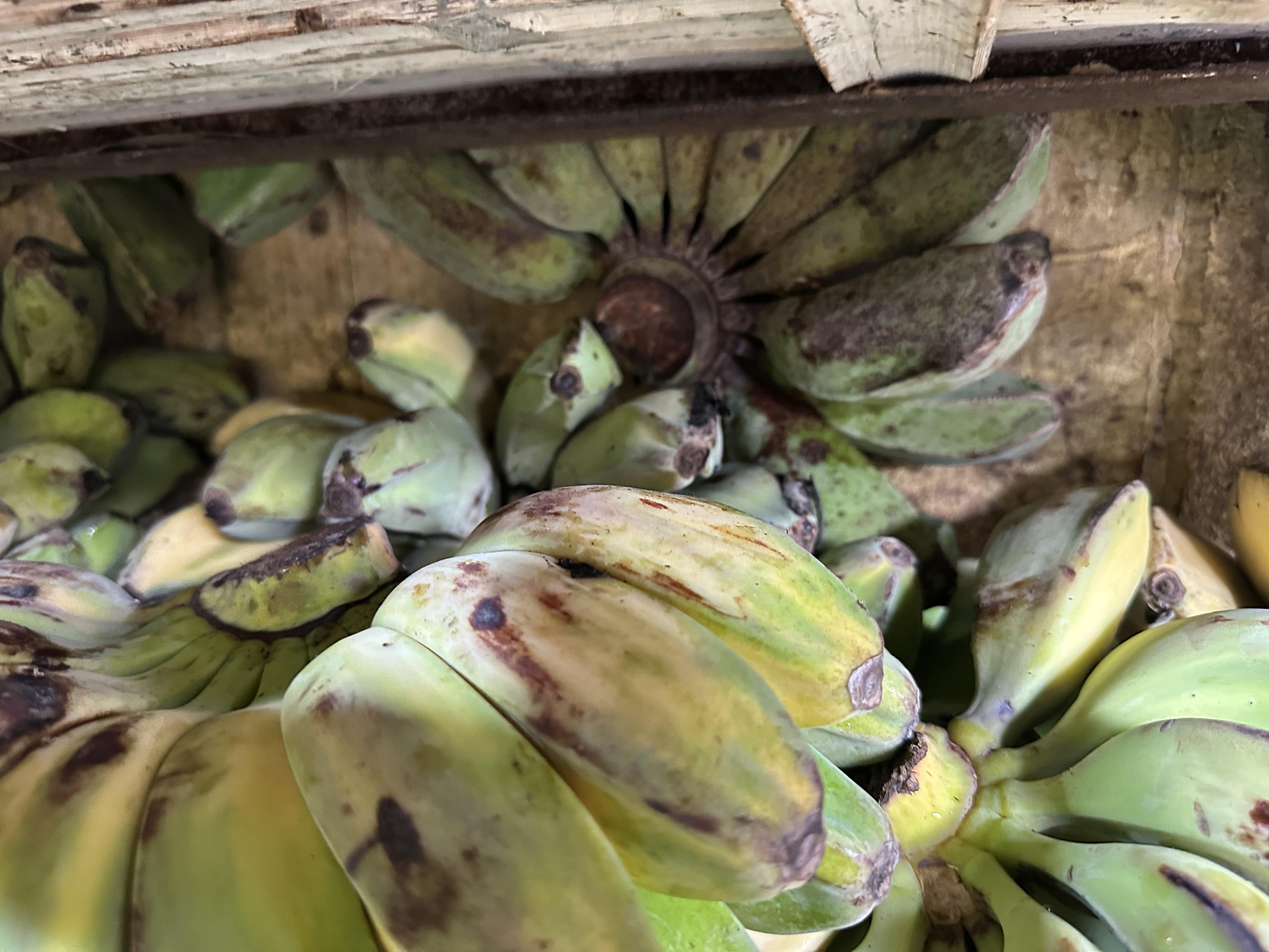underripe: (2, 486, 922, 952), (335, 115, 1058, 462), (965, 482, 1269, 952), (202, 300, 723, 540), (0, 348, 250, 576)
